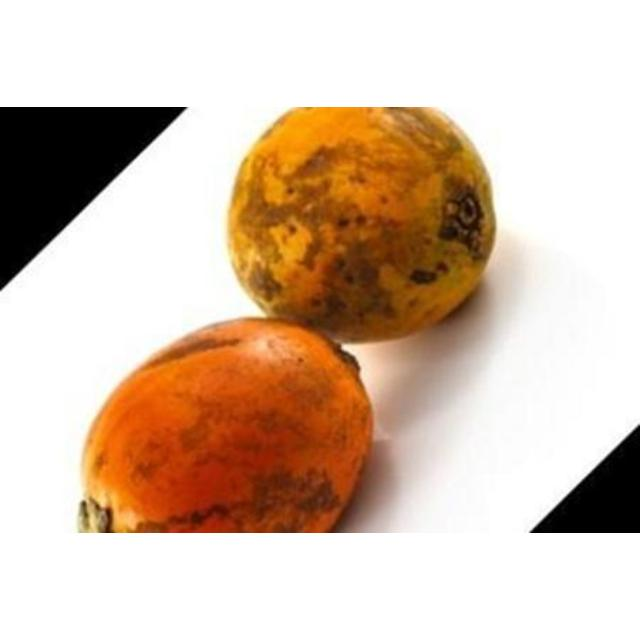good: (226, 107, 498, 347), (77, 319, 373, 532)
